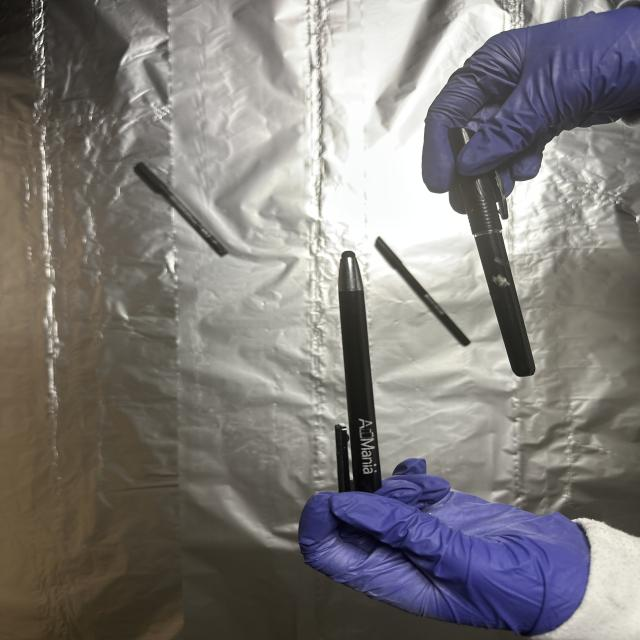gloves_contaminated: (300, 459, 590, 635), (422, 7, 640, 193)
